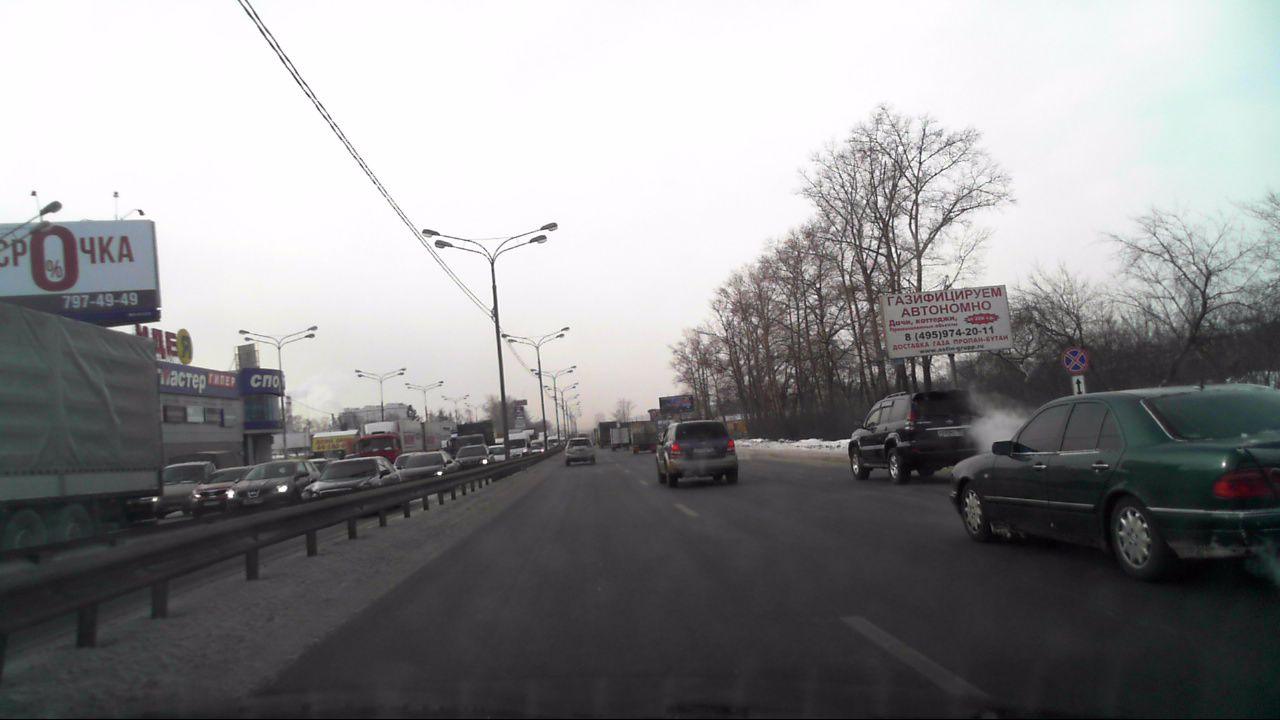No Parking: (1062, 348, 1088, 373)
